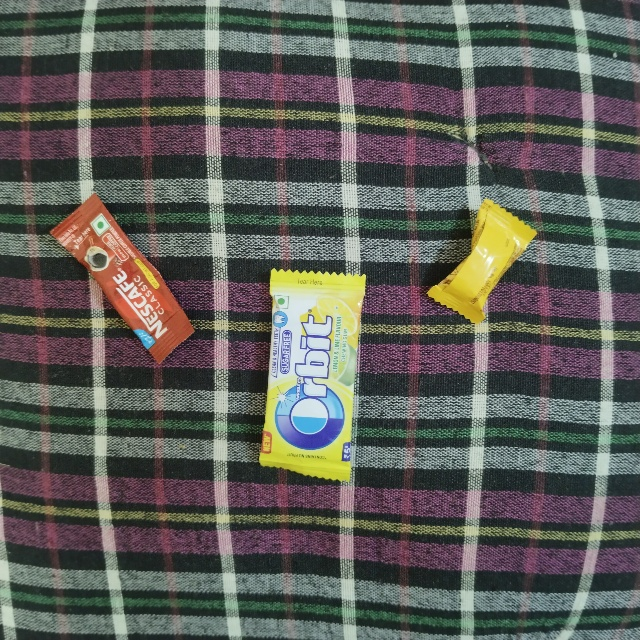Alpenlibe Creamfills: (488, 195, 561, 313)
Nescafe Coffee: (49, 233, 111, 408)
Orbit: (274, 270, 363, 477)
